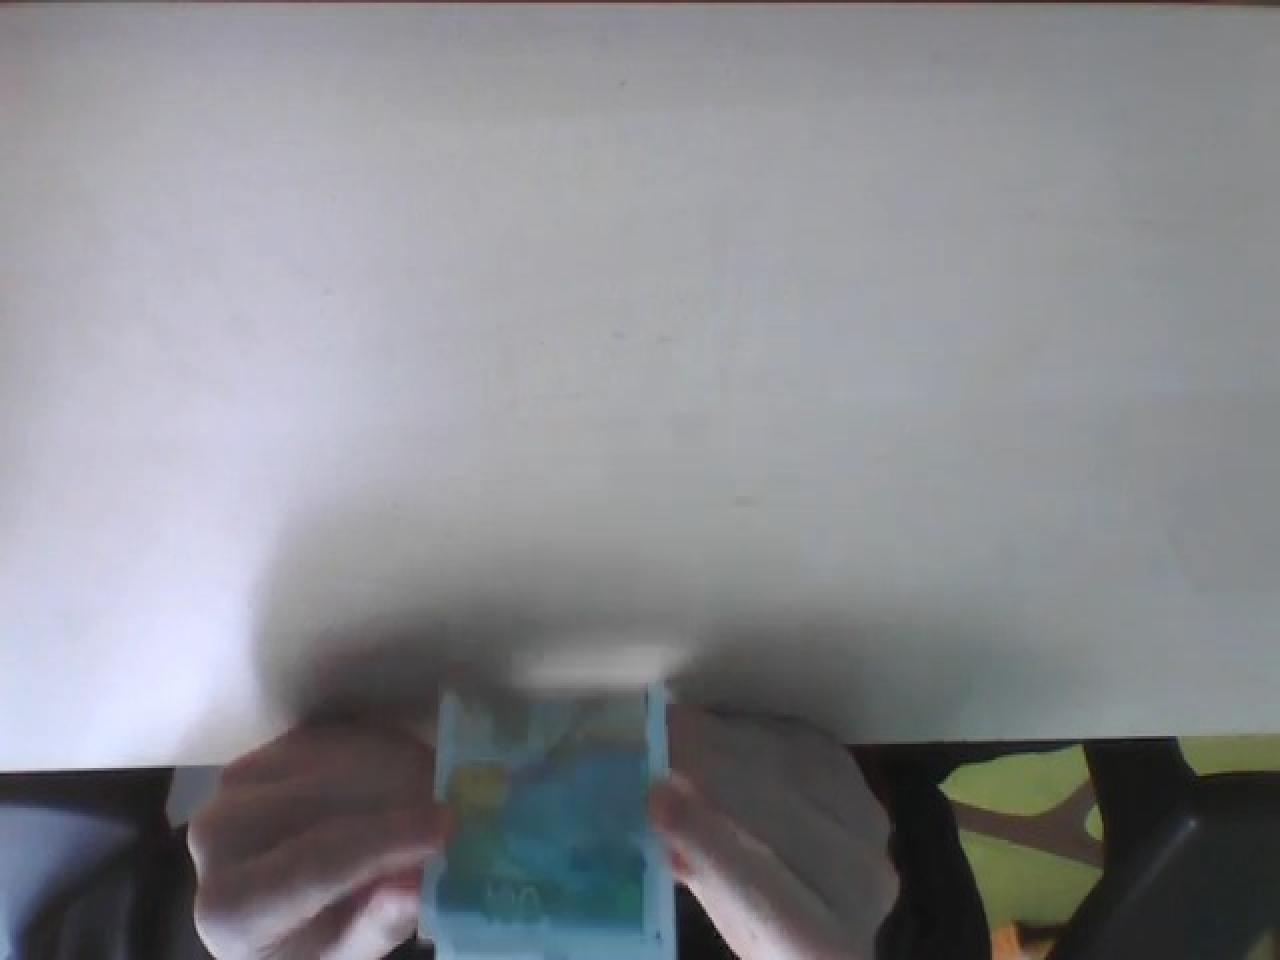100leva: (414, 672, 678, 960)
